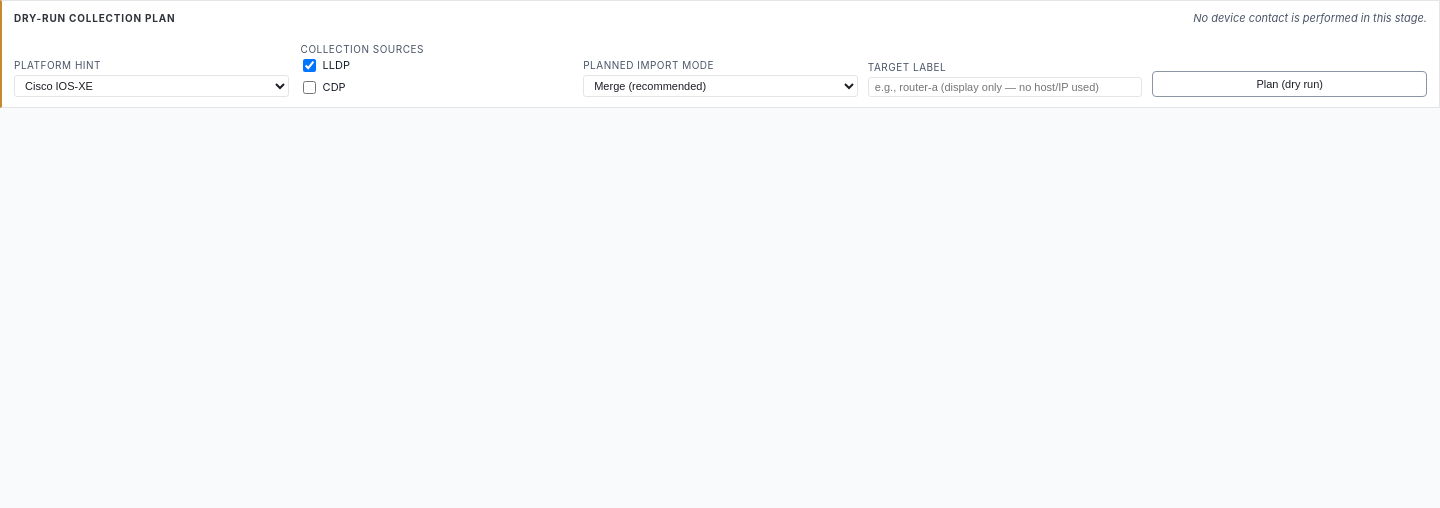
Test: LiveCollectionDryRunPanel — surface › renders unsupported state with reason
What coordinates should you click on to do the following:
click the button with test id "tm-live-collection-plan-button"
I would click on:
 (1290, 84)
Its box is [1152,71,1427,97].
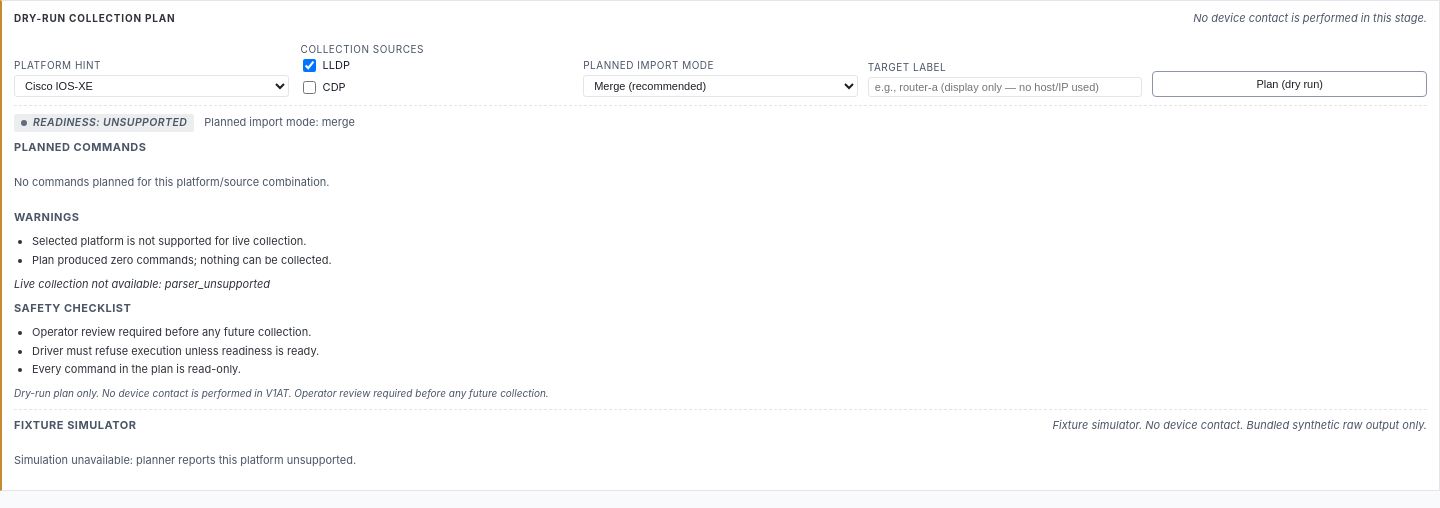
Expected: the text with test id "tm-live-collection-unsupported" shows "parser_unsupported", [165,277,270,291]
Expected: the list item with test id "tm-live-collection-warning-unsupported_platform" is shown, [32,234,306,248]
Expected: the text "No commands planned for this platform/source combination." is shown, [14,175,330,189]
